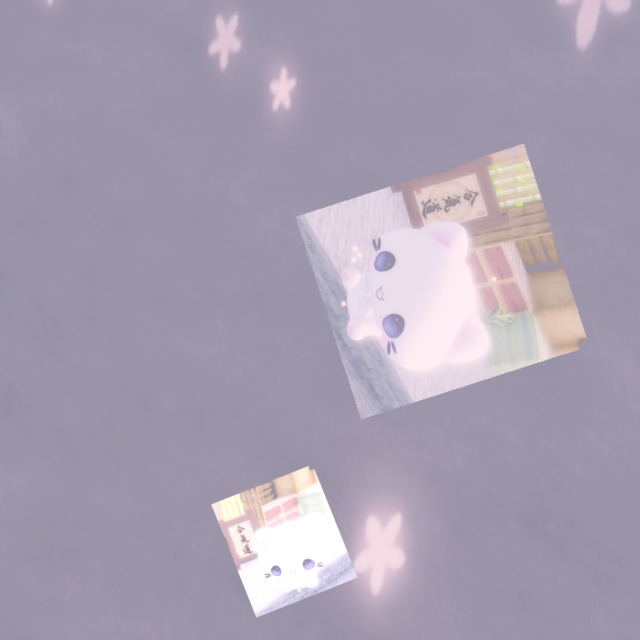urso_branco: (295, 143, 590, 420), (211, 464, 358, 618)
